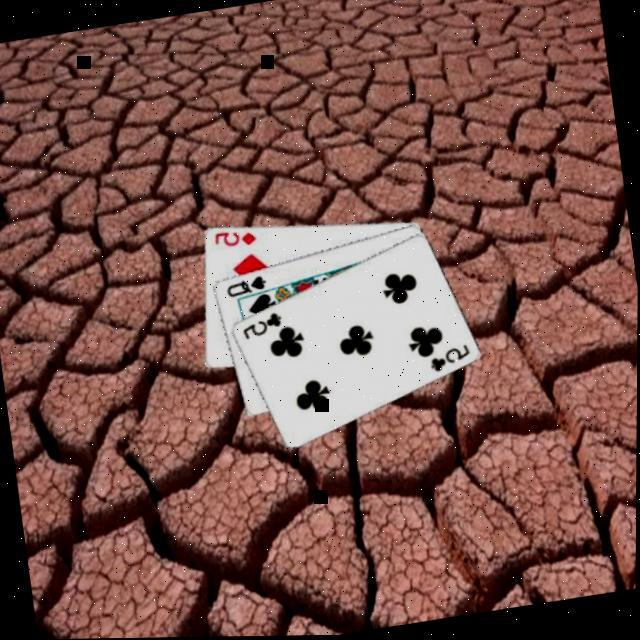5C: (238, 307, 287, 342), (426, 340, 475, 375)
5D: (212, 222, 261, 252)
QS: (222, 270, 271, 299)
